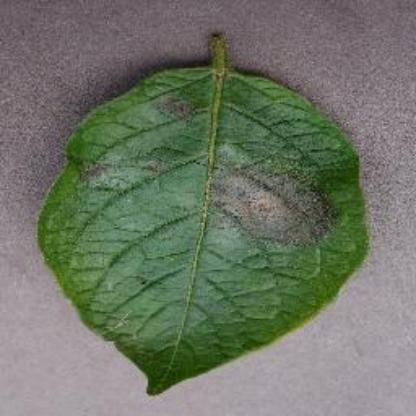Late-Blight: (17, 20, 402, 410)
